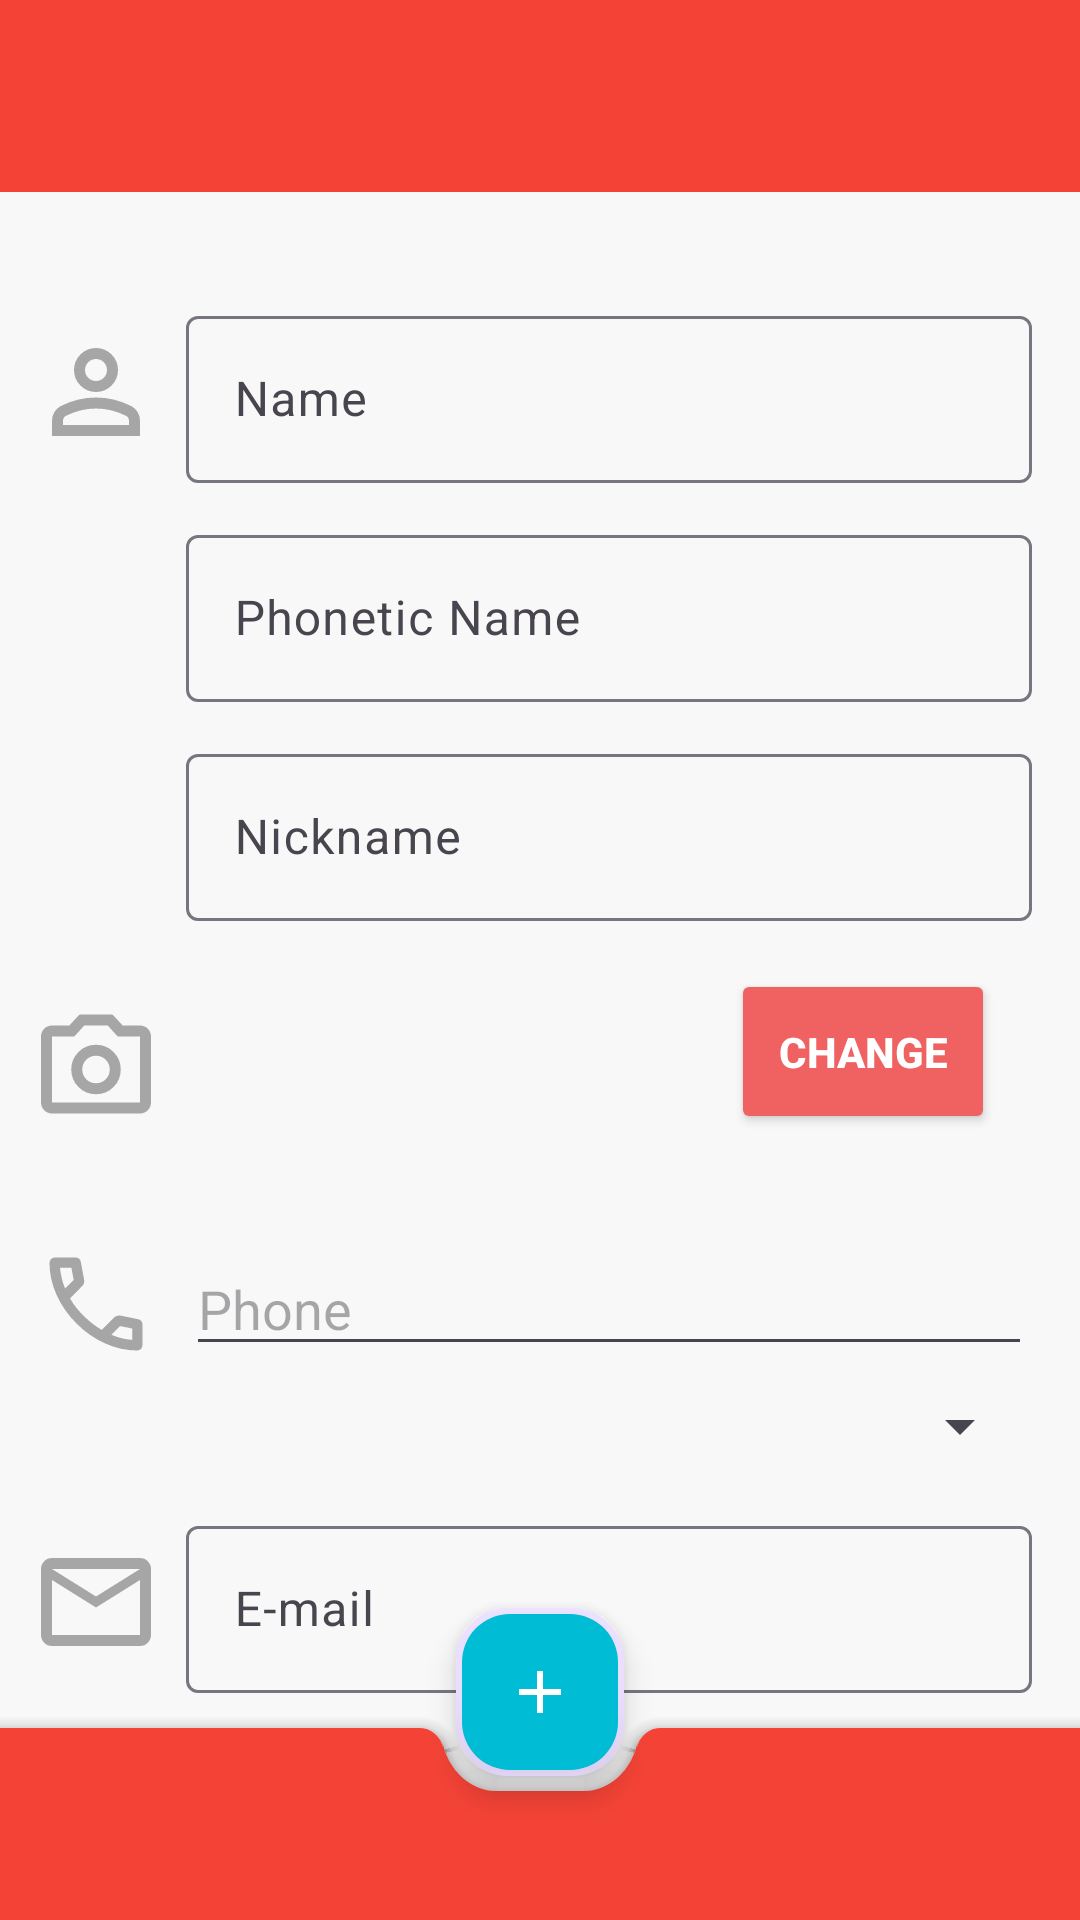

Where icons sit on this 1080x1920 app screen, as bbox(x1, y1, x2, y2):
camera: bbox(41, 1014, 151, 1114)
profile: bbox(52, 348, 140, 436)
